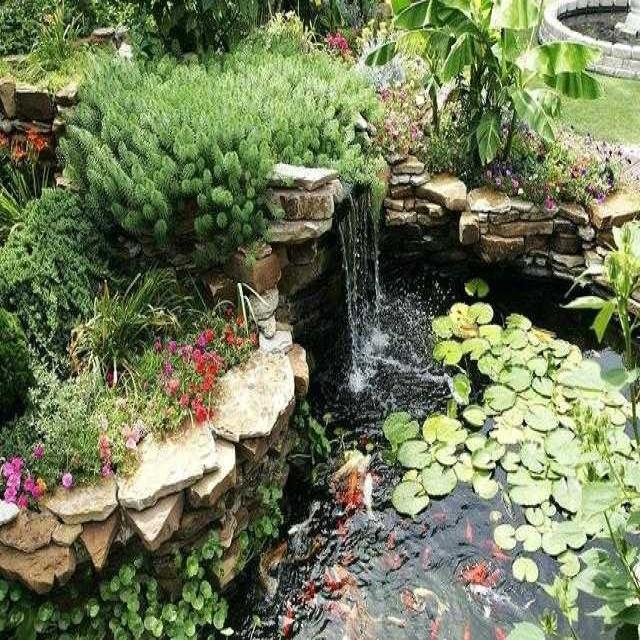Ponds: (1, 160, 640, 640)
